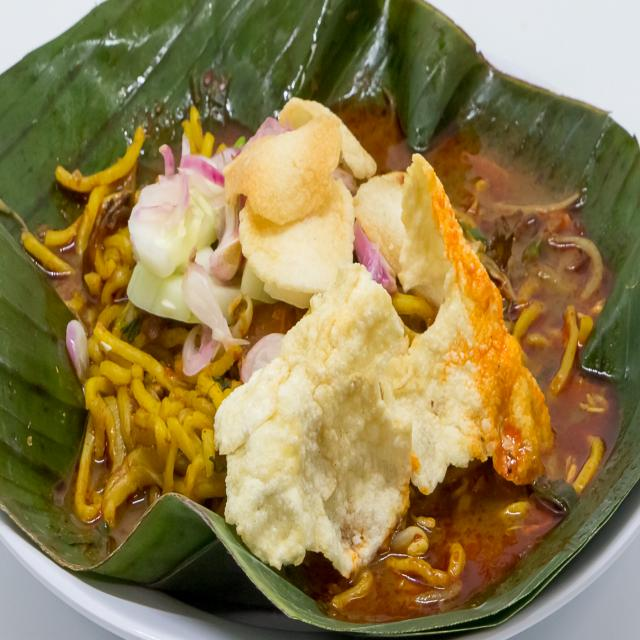Mie-Aceh: (10, 80, 626, 603)
